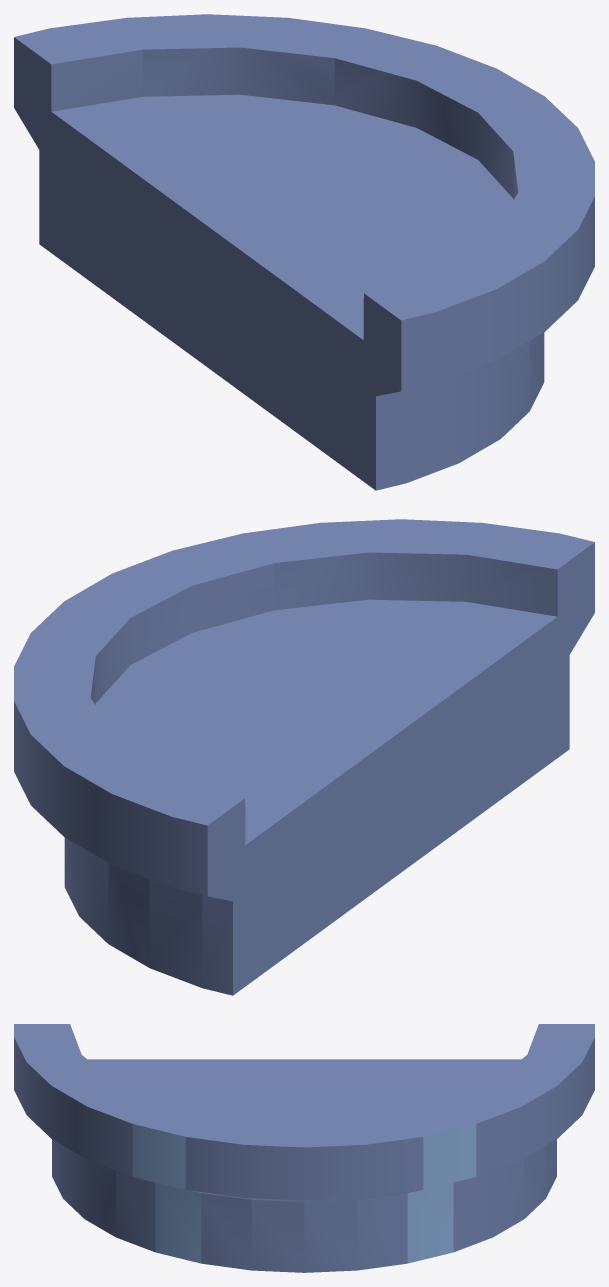
File: br-m-pipe-blueA.fbx
3 views of the same model, one above another, from view 1: azimuth 30°, elevation 25°; view 2: azimuth 150°, elevation 25°; view 3: azimuth 270°, elevation 25° (orthographic). The views are drawn at different scales.
Parts seen in each view (by area): view 1: pipeA_blue_m; view 2: pipeA_blue_m; view 3: pipeA_blue_m.
Part boxes in pixels (bbox=[...]): pipeA_blue_m: bbox=[14, 14, 594, 490]; pipeA_blue_m: bbox=[14, 519, 594, 995]; pipeA_blue_m: bbox=[14, 1024, 594, 1272].
Bounding box in the file's own units: 93.54 × 50 × 186.
